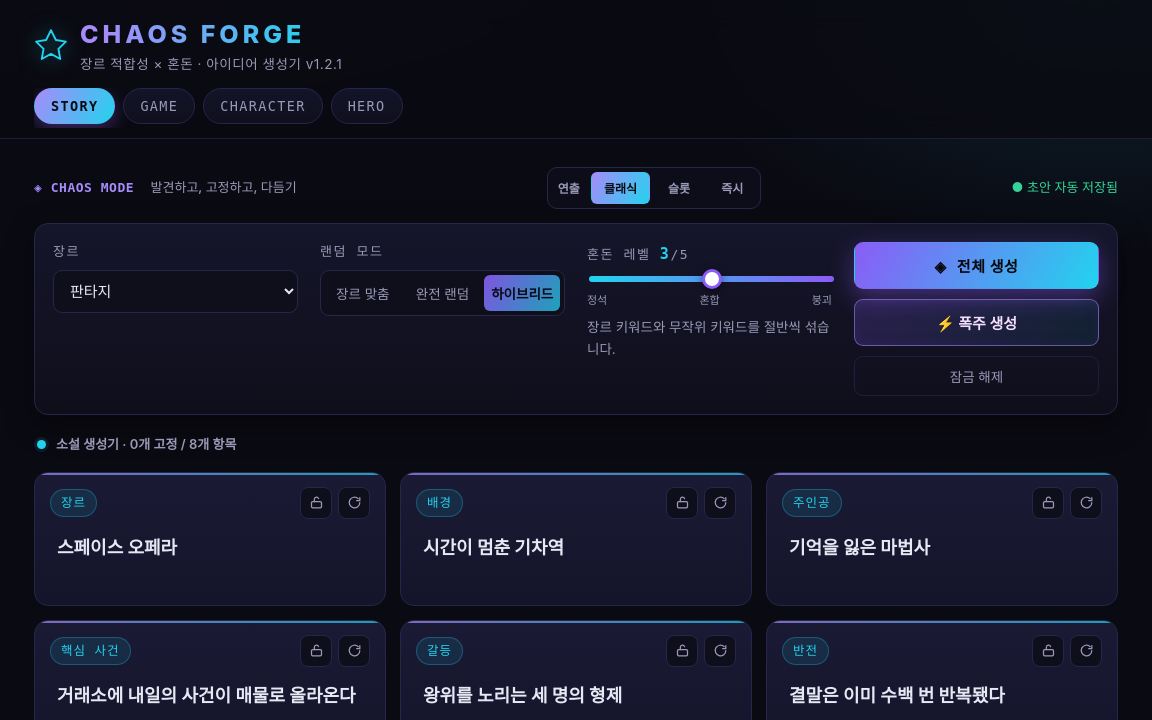
Scenario: CHAOS FORGE UI › 잠긴 항목은 재추첨되지 않고 안내가 표시된다
Click the 1st button with class "js-lock".
click(316, 503)  # box left=300, top=487, right=332, bottom=519
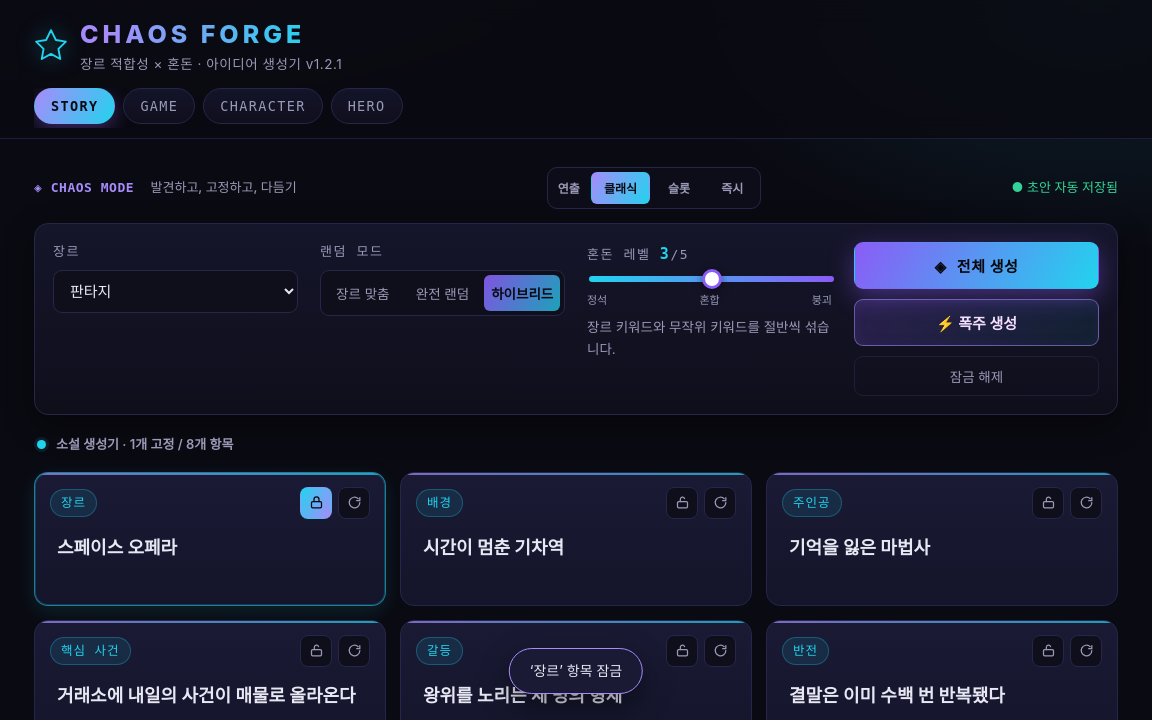
Click the 1st button with class "js-reroll".
click(354, 503)  # box left=338, top=487, right=370, bottom=519
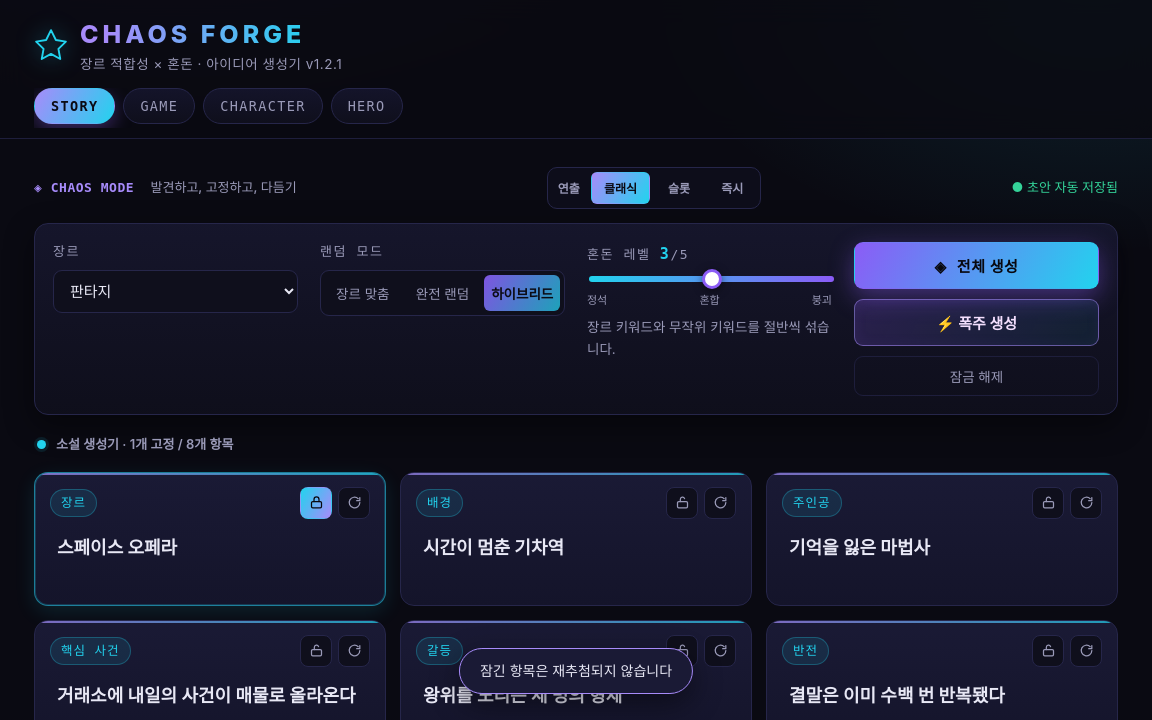
Expected: the field with class "card-value" reads "스페이스 오페라", left=57, top=537, right=177, bottom=558
Expected: the message with id "toast" shows "잠긴", left=480, top=662, right=672, bottom=679
